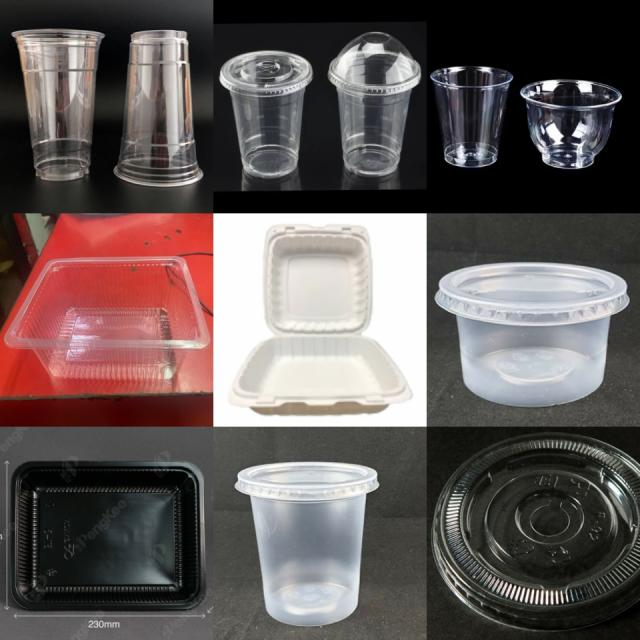Single-Use-Plastic: (431, 432, 640, 631), (229, 225, 412, 415), (10, 460, 205, 610), (435, 262, 629, 406), (5, 256, 210, 381), (235, 461, 378, 626), (12, 29, 104, 180), (114, 30, 202, 186), (328, 32, 421, 177), (220, 51, 312, 179), (521, 80, 621, 169), (430, 66, 512, 168)
